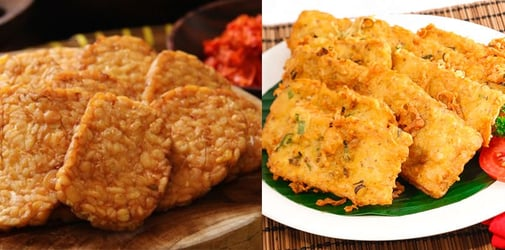Tempe: (39, 100, 184, 229), (151, 92, 240, 188), (1, 122, 70, 218)
